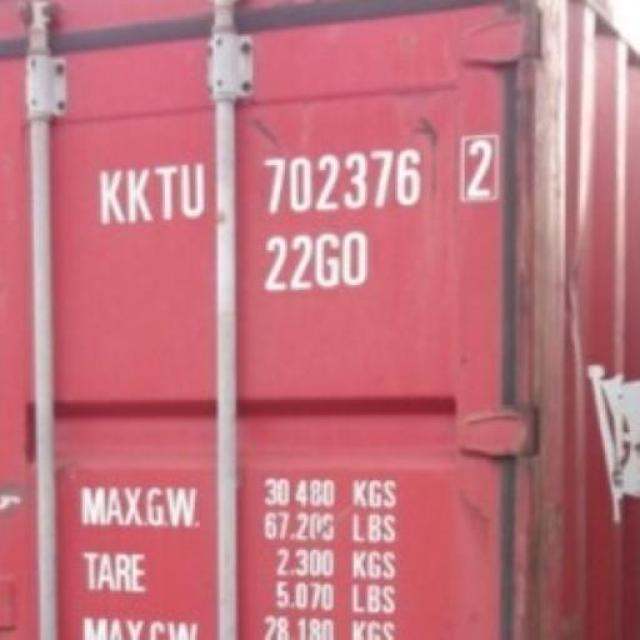ISO: (252, 230, 390, 288)
container_number: (100, 128, 508, 229)
